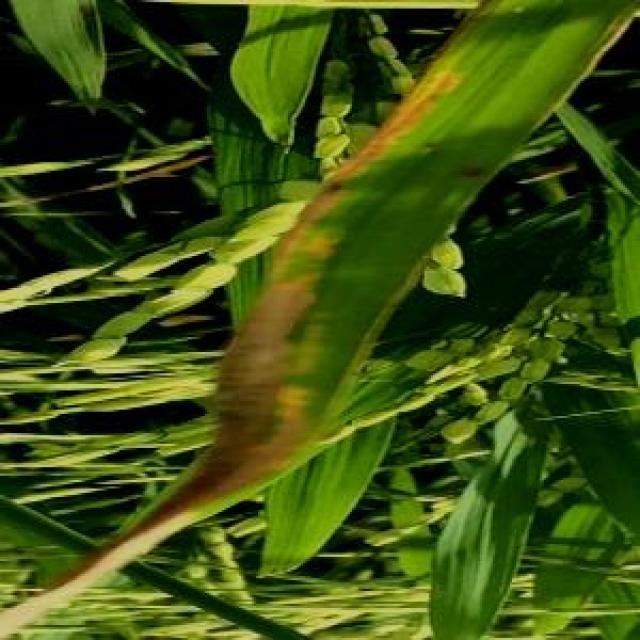Bacterial_Leaf_Blight: (254, 226, 375, 446)
